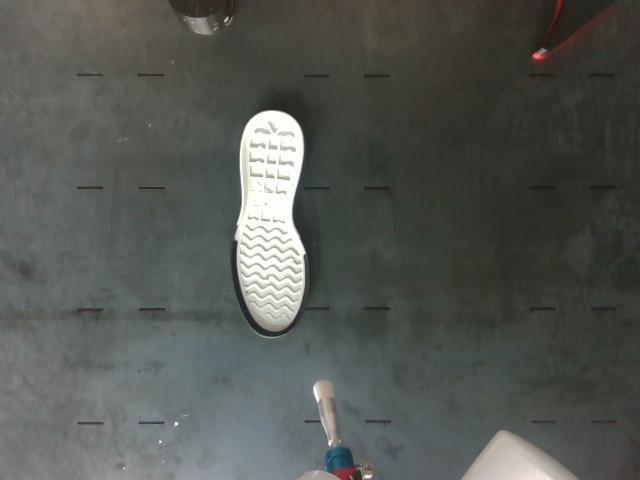shoes: (231, 110, 309, 338)
